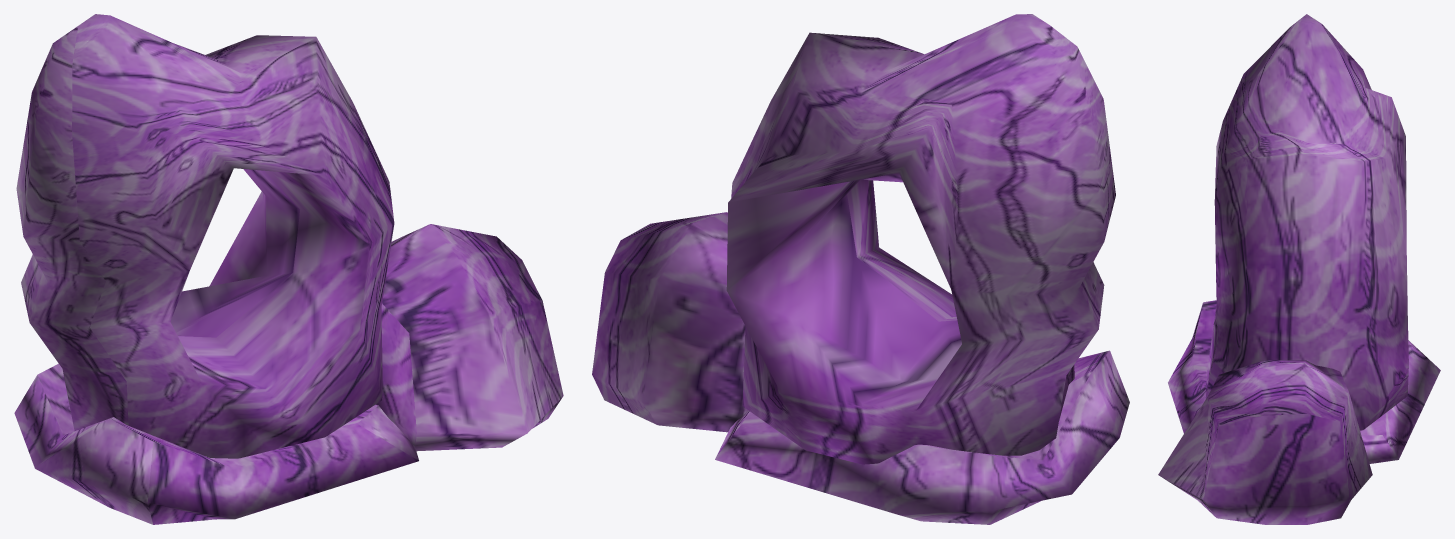
File: polygonalmind-momuspark-036.glb
3 views of the same model, side by side, from view 1: azimuth 30°, elevation 25°; view 2: azimuth 150°, elevation 25°; view 3: azimuth 270°, elevation 25° (orthographic). The views are drawn at different scales.
Visible parts, largest first — view 1: Rock_02_Art; view 2: Rock_02_Art; view 3: Rock_02_Art.
Boxes of the visible parts, box(x1,y1,x2,y2) form: Rock_02_Art: box(14, 14, 563, 524); Rock_02_Art: box(592, 14, 1129, 524); Rock_02_Art: box(1158, 14, 1440, 524).
Size of what is drawn, in the model's own units: 2.55 by 2.34 by 1.65.
Materials: 1 (1 with a texture image).
